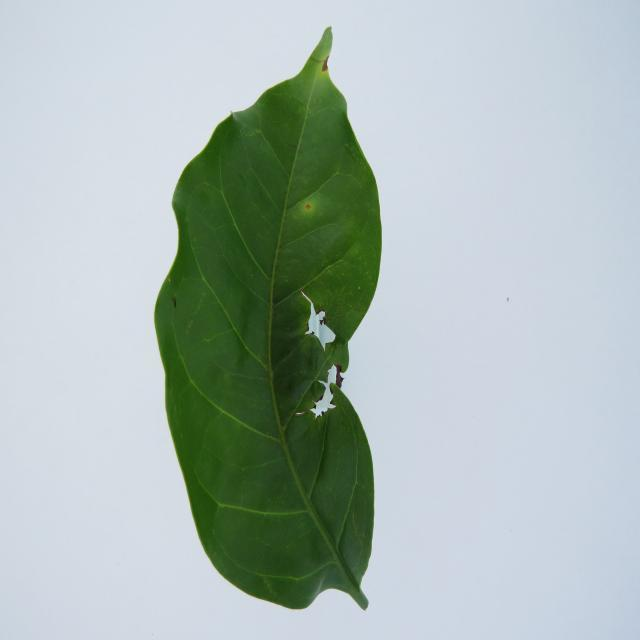DeficienciaNutricional-Calcio: (155, 28, 381, 608)
